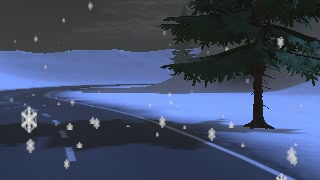Lane: (1, 87, 288, 179)
